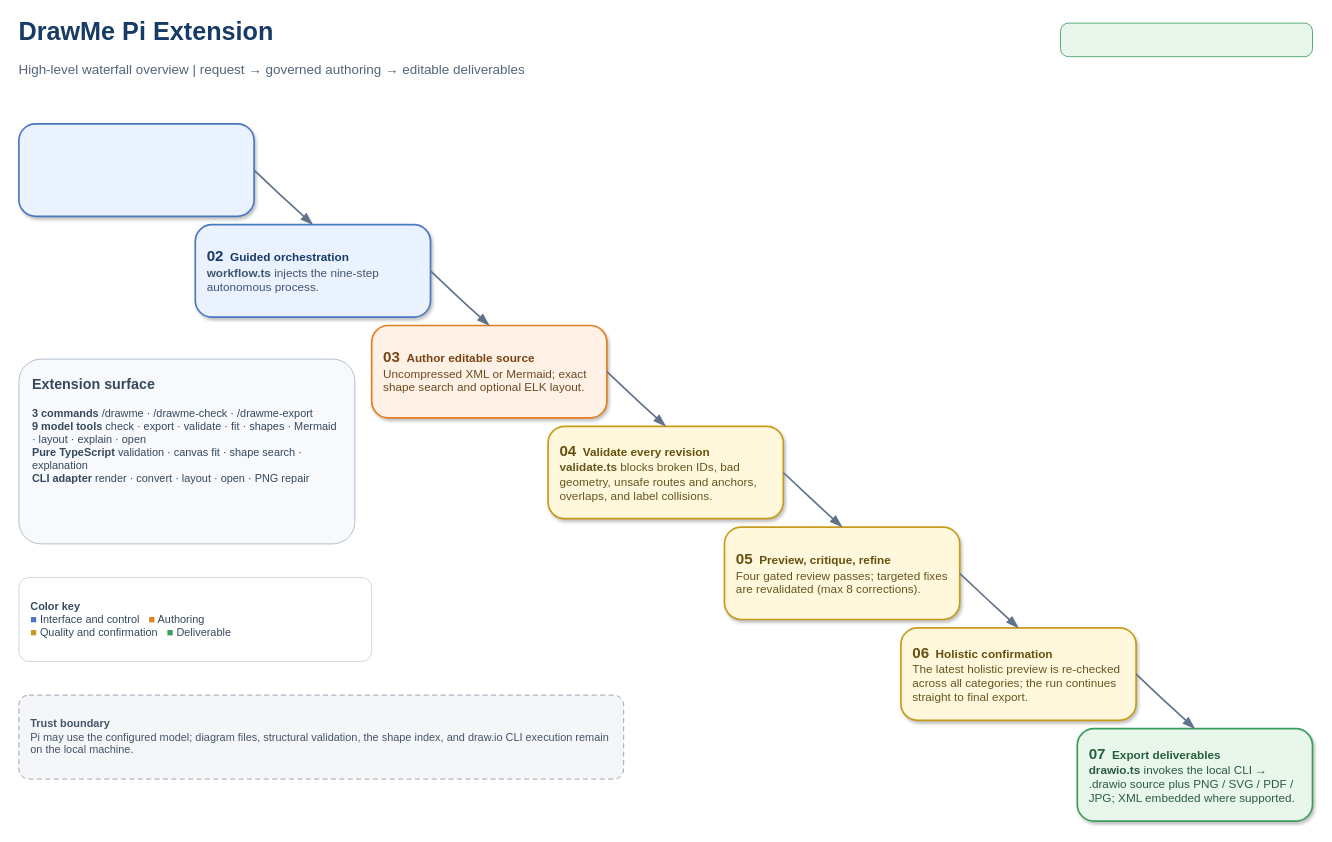
The diagram is 1332 pixels wide and 842 high, and some of its shapes have lost their labels. The shapes that lost their labels are listed below. From the top down, each one's centre as x and y in pixels, then its label:
the point at 1186,39: draw.io CLI 31.1.5 | v30+ features active
the point at 137,171: 01 Request Natural-language intent arrives through /drawme in the Pi agent.
